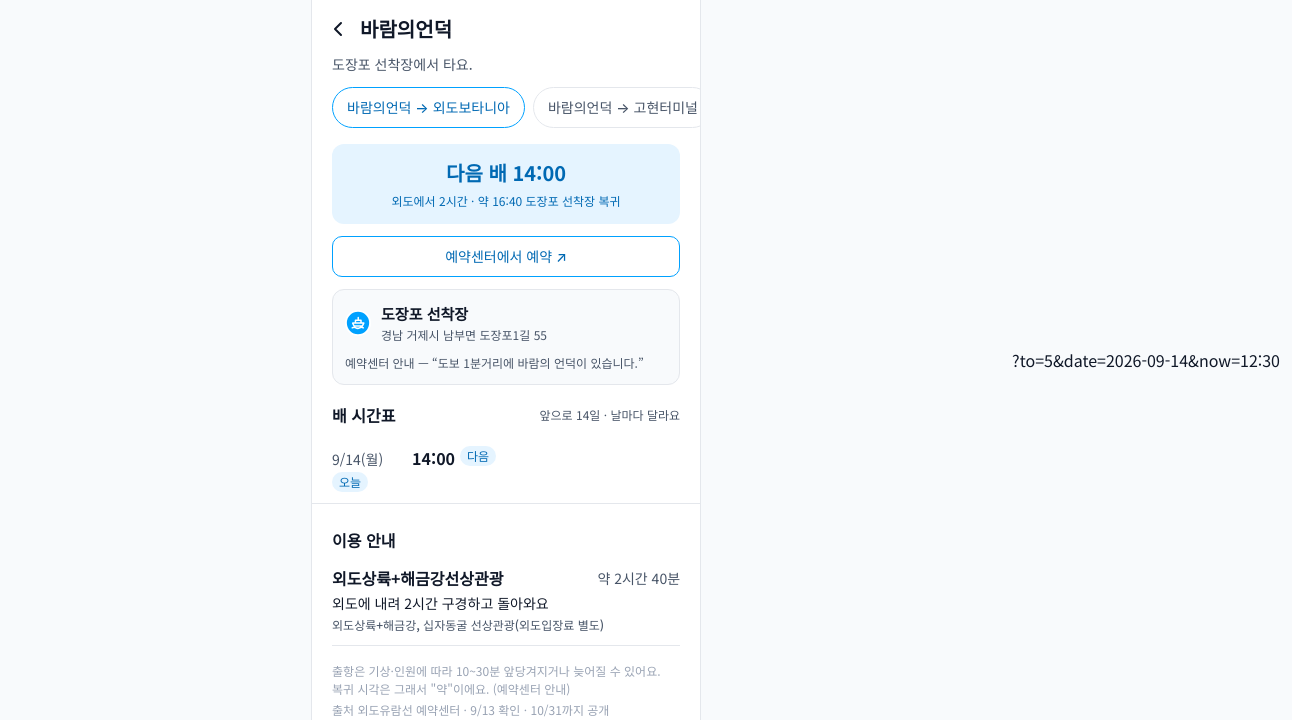
Test: SpotTimetablePage — 유람선 › /timetable/1?to=5 — 다음 스팟이 외도면 그 칩은 배(도장포 외도상륙), 거꾸로 칩은 없다
The width and height of the screenshot is (1292, 720).
Expected: the text "도장포 선착장에서 타요." is shown, [332,54,472,74]
Expected: the text "예약센터 안내 — “도보 1분거리에 바람의 언덕이 있습니다.”" is shown, [345,354,665,372]
Click the button "바람의언덕 → 고현터미널".
click(623, 108)  # box [533,87,713,128]
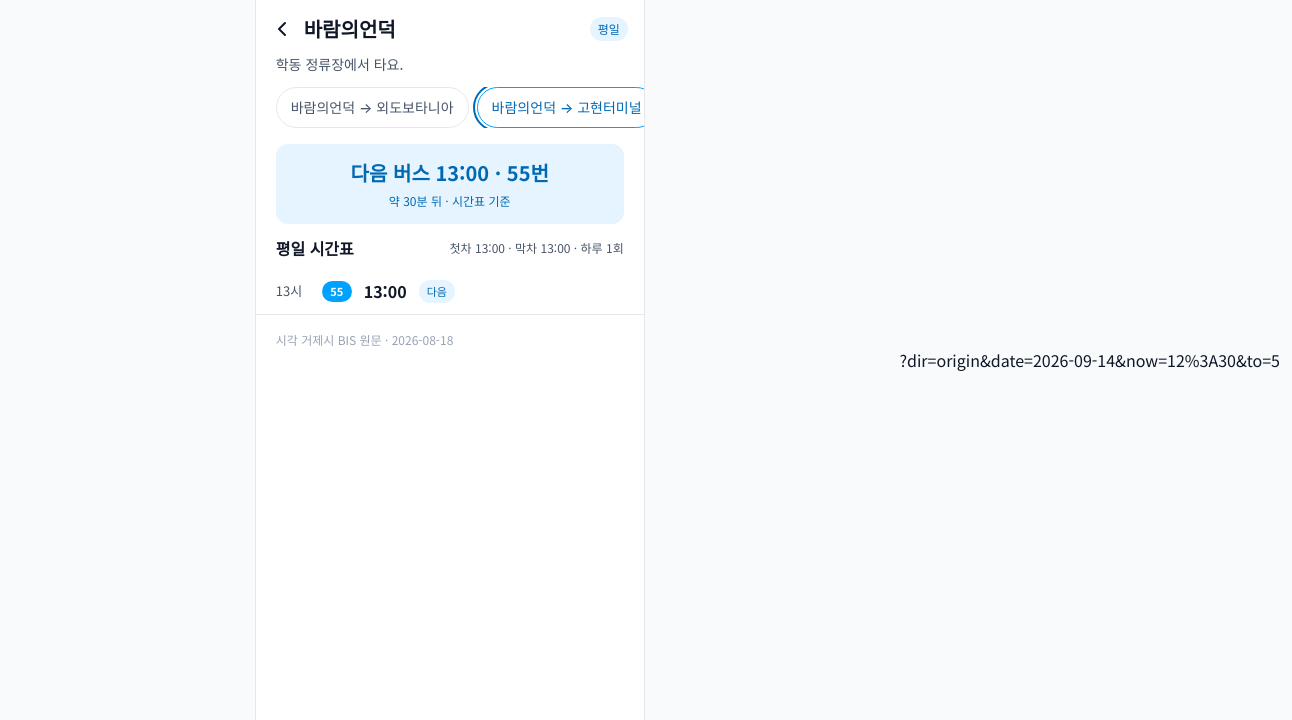
Now the text "다음 버스 13:00 · 55번" is shown, box [351,158,549,188]
